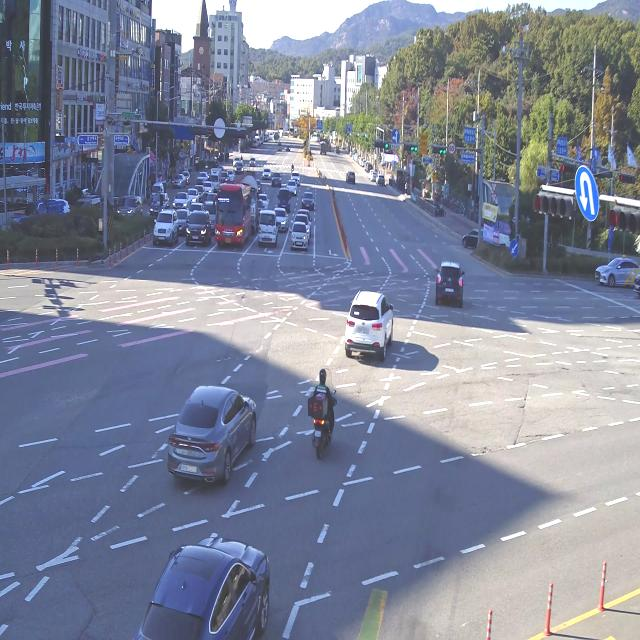Bus: (213, 177, 253, 249)
Car: (134, 520, 269, 640), (154, 367, 258, 498), (341, 274, 393, 374), (586, 243, 640, 288), (431, 256, 468, 306), (149, 202, 179, 253), (185, 206, 212, 244), (254, 208, 276, 249), (462, 219, 486, 255), (290, 224, 310, 254), (299, 191, 317, 216), (274, 208, 289, 229), (345, 169, 361, 186), (178, 206, 188, 230), (261, 164, 270, 185), (286, 180, 299, 194), (268, 170, 279, 186)
Motorcycle: (307, 359, 344, 462)
Truck: (277, 187, 290, 210)
